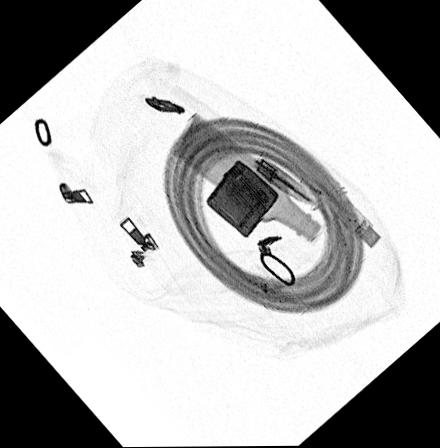Lighter: (204, 160, 279, 239)
